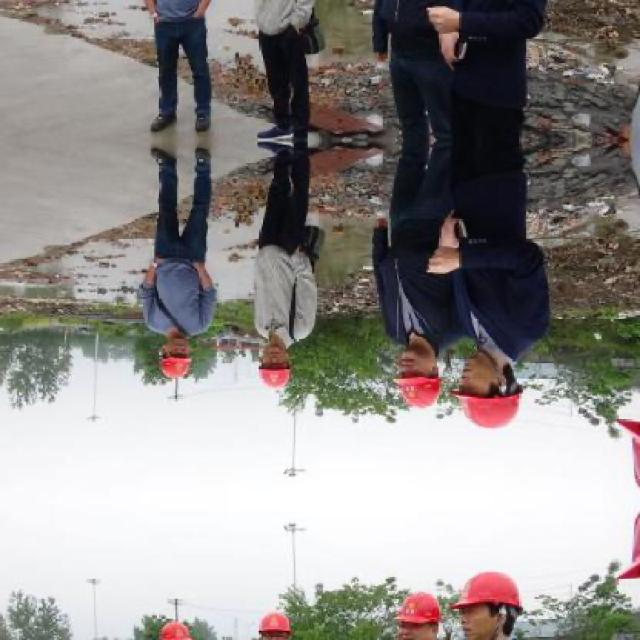con casco: (195, 285, 362, 409), (133, 271, 247, 389), (363, 312, 470, 428), (455, 354, 559, 466)
